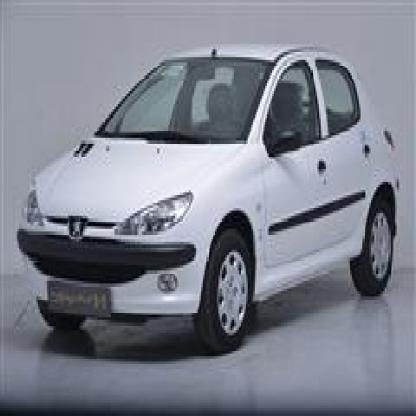Car: (17, 36, 397, 356)
